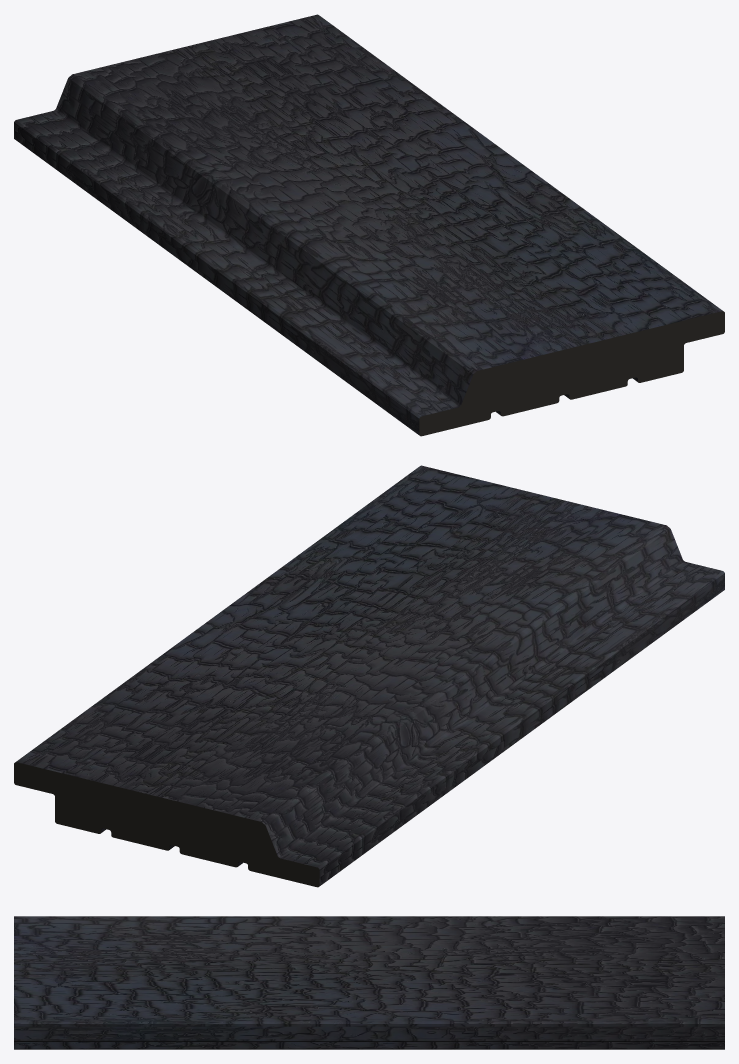
The model's file is larch-facade-half-tenon-carbon.glb.
The picture shows the model from 3 angles, top to bottom: view 1: azimuth 30°, elevation 25°; view 2: azimuth 150°, elevation 25°; view 3: azimuth 270°, elevation 25°; orthographic projection. The views are drawn at different scales.
Parts seen in each view (by area): view 1: Pusė_Špunto; view 2: Pusė_Špunto; view 3: Pusė_Špunto.
Boxes of the visible parts, left/top/right/bottom form: Pusė_Špunto: left=14, top=14, right=724, bottom=436; Pusė_Špunto: left=14, top=465, right=724, bottom=887; Pusė_Špunto: left=14, top=916, right=724, bottom=1049.
Bounding box in the file's own units: 0.0723 × 0.0117 × 0.166.
Materials: 3 (1 with a texture image).
